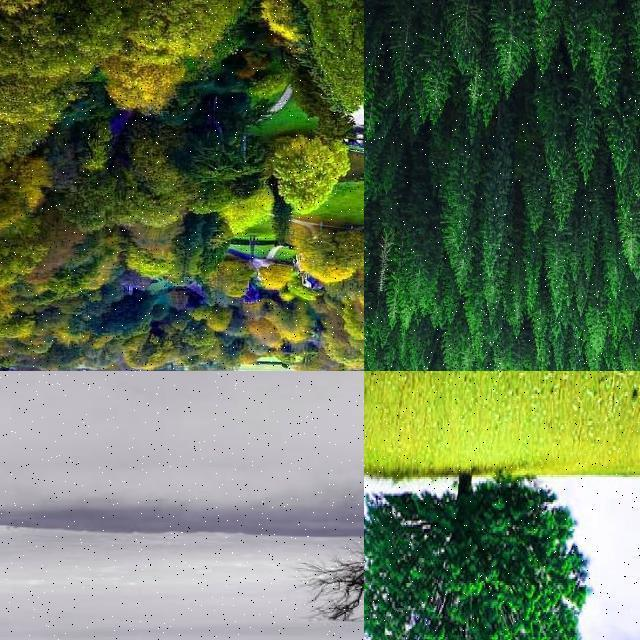tree: (364, 476, 576, 640), (0, 0, 130, 80), (281, 0, 364, 112), (110, 123, 194, 233), (126, 0, 254, 60), (0, 28, 78, 126), (296, 528, 364, 628), (268, 133, 348, 217), (184, 94, 260, 182), (54, 122, 114, 230), (90, 50, 186, 114), (23, 0, 180, 36), (220, 0, 364, 36), (0, 144, 46, 254), (1, 0, 72, 68), (484, 124, 514, 276), (166, 214, 226, 286), (296, 220, 364, 282), (448, 125, 480, 253), (536, 74, 574, 178), (491, 0, 529, 104), (417, 2, 448, 112), (0, 95, 50, 161), (364, 0, 406, 76), (600, 92, 636, 176), (523, 1, 565, 72), (447, 0, 485, 76), (526, 0, 562, 78), (390, 0, 418, 100), (0, 232, 46, 292), (474, 0, 518, 60), (572, 91, 600, 185), (522, 148, 550, 234), (590, 0, 616, 92), (43, 255, 101, 295), (562, 0, 594, 72), (260, 180, 292, 248), (600, 218, 626, 300), (206, 257, 258, 297), (364, 10, 384, 110), (544, 231, 572, 301), (268, 295, 312, 337), (558, 1, 600, 44), (476, 58, 500, 130), (502, 270, 526, 342), (552, 163, 576, 233), (364, 112, 382, 205), (364, 229, 384, 311), (578, 202, 598, 282), (408, 0, 452, 36), (522, 234, 542, 310), (442, 0, 472, 48), (606, 169, 634, 219), (616, 212, 640, 270), (448, 246, 476, 294), (364, 29, 380, 111), (364, 139, 380, 217), (463, 294, 485, 350), (382, 139, 402, 197), (620, 280, 640, 338), (585, 304, 607, 356), (606, 1, 634, 40), (483, 274, 502, 324), (286, 346, 320, 370), (532, 307, 548, 357), (364, 226, 376, 292), (364, 195, 376, 258), (574, 0, 598, 28), (487, 0, 507, 32), (620, 341, 640, 371), (364, 323, 376, 371), (364, 106, 376, 150), (364, 0, 384, 26), (364, 104, 376, 140), (363, 278, 372, 326)
